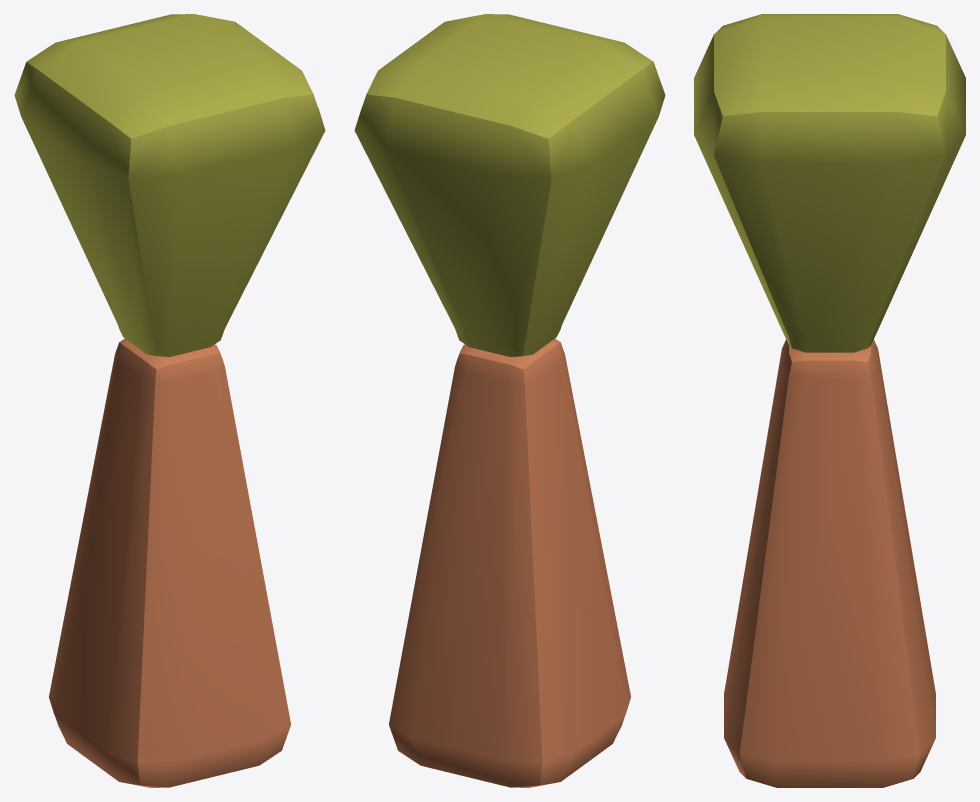
The model's file is Tube3_Drug.fbx.
3 renders of one model, left to right at view 1: azimuth 30°, elevation 25°; view 2: azimuth 150°, elevation 25°; view 3: azimuth 270°, elevation 25°, orthographic.
Visible parts, largest first — view 1: Tube3_GEO; view 2: Tube3_GEO; view 3: Tube3_GEO.
Boxes of the visible parts, x1=… form: Tube3_GEO: x1=14, y1=14, x2=325, y2=787; Tube3_GEO: x1=354, y1=14, x2=665, y2=787; Tube3_GEO: x1=694, y1=14, x2=965, y2=787.
Size of the model in its own units: 0.0115 by 0.0334 by 0.0115.
